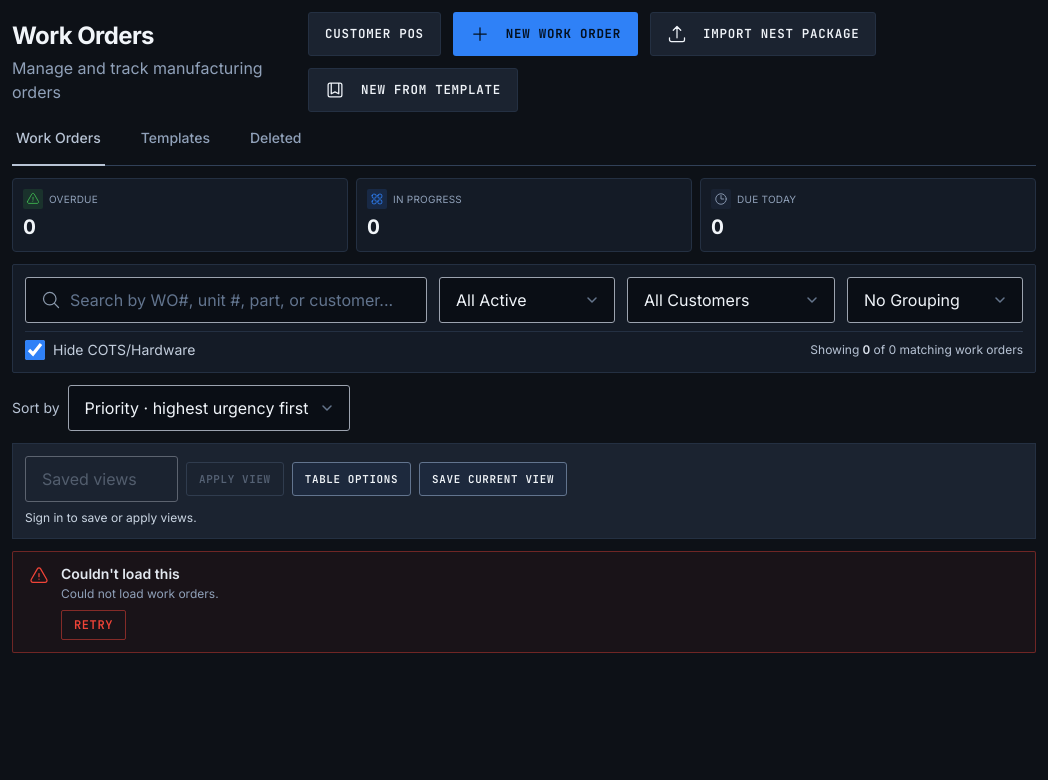
Test: WorkOrders async-state (Batch 3) › renders ErrorState on load failure and recovers content on Retry
This screenshot has width=1048, height=780.
Check: the text "Could not load work orders." is shown, box [61,586,219,601]
Check: the link "WO-1001" is not shown
# Click Retry → re-invokes the fetch.
Click the button "Retry": (94, 625) [61,610,126,640]
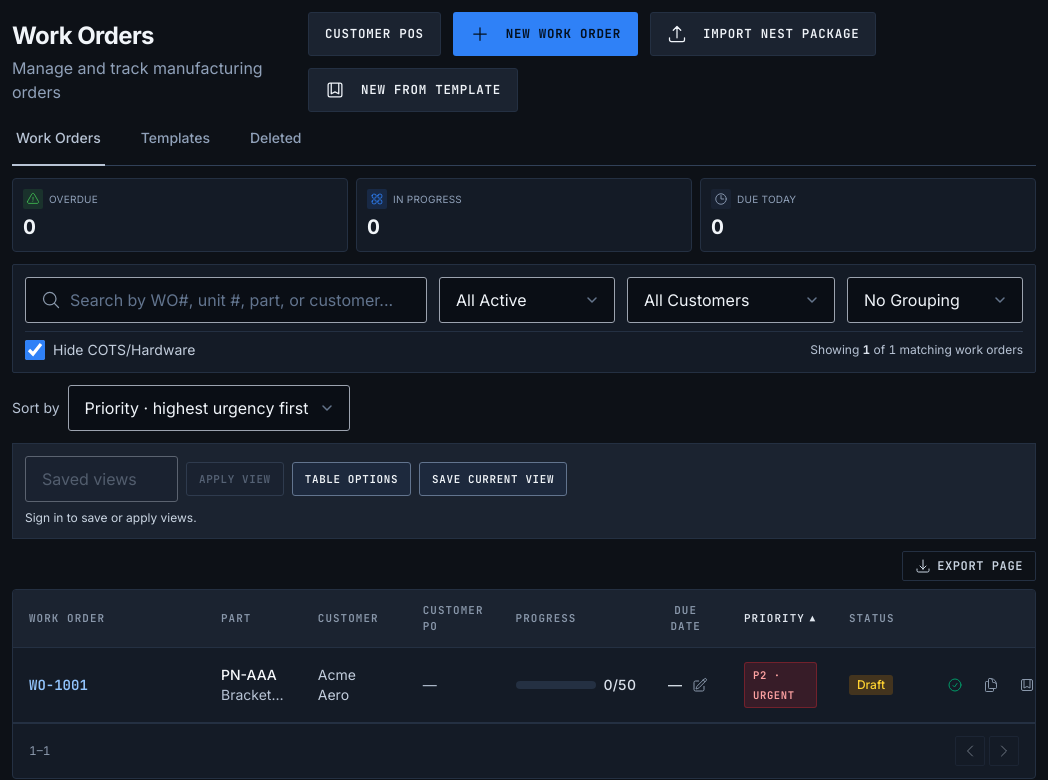
Check: the link "WO-1001" is shown, box [29,676,88,694]
Check: the message "Couldn't load this Could not load work orders. Retry" is gone
